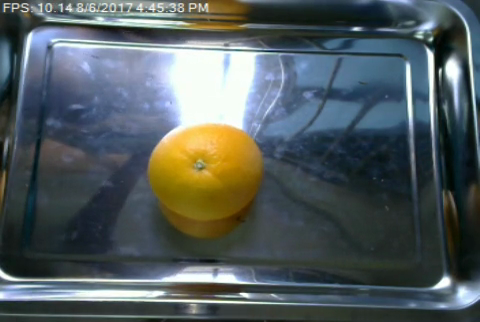Orange: (148, 123, 264, 222)
